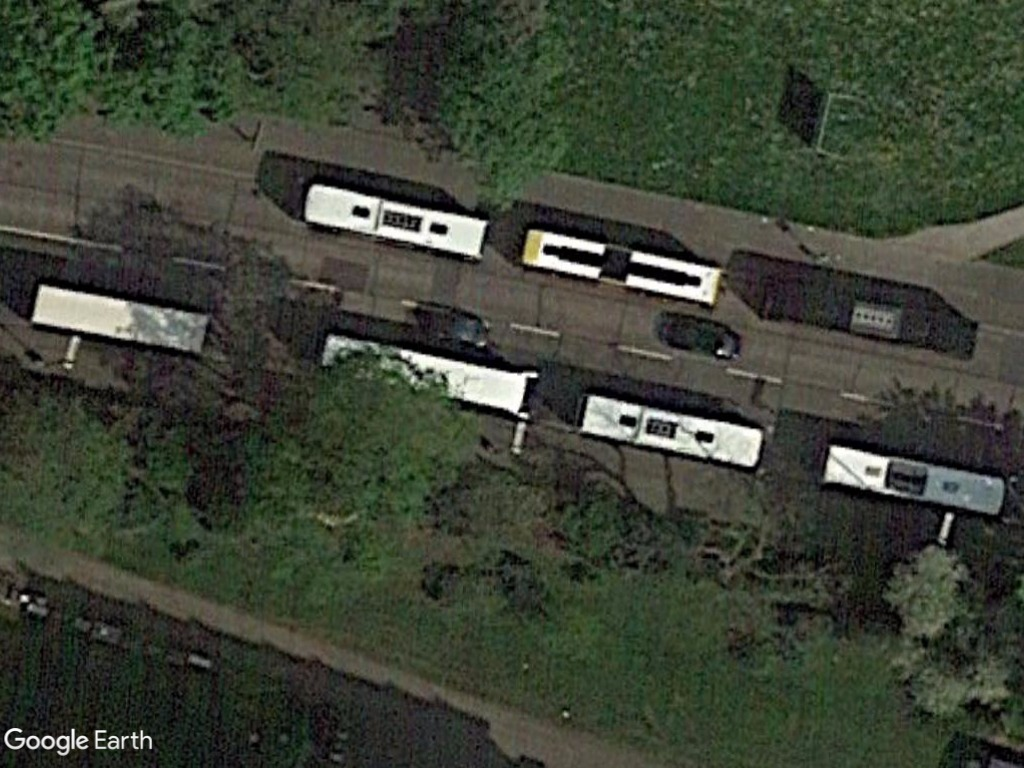bus: (517, 223, 724, 310), (297, 177, 496, 263), (569, 392, 769, 475), (817, 441, 1011, 521)
longvehicle: (26, 280, 212, 359)
